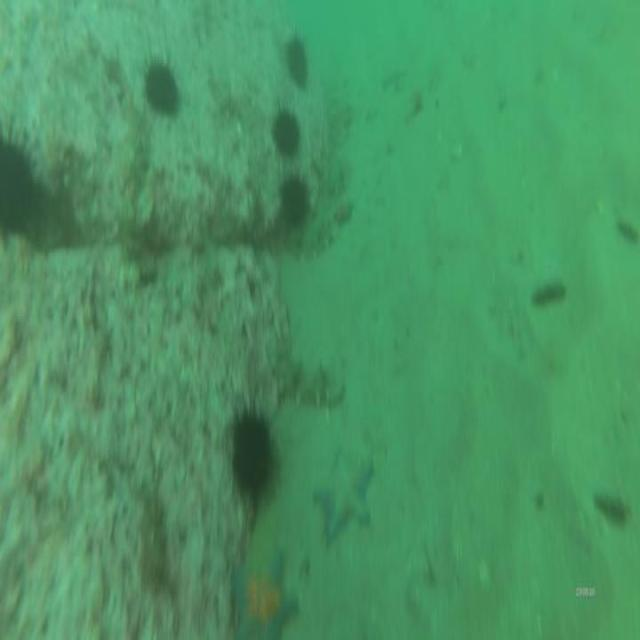echinus: (0, 129, 42, 234), (231, 406, 276, 495), (266, 101, 309, 161), (276, 169, 314, 236), (143, 55, 181, 120), (284, 30, 310, 85)
holothurian: (275, 340, 345, 411)
starfish: (231, 550, 301, 640), (311, 446, 375, 537), (330, 196, 356, 229)
